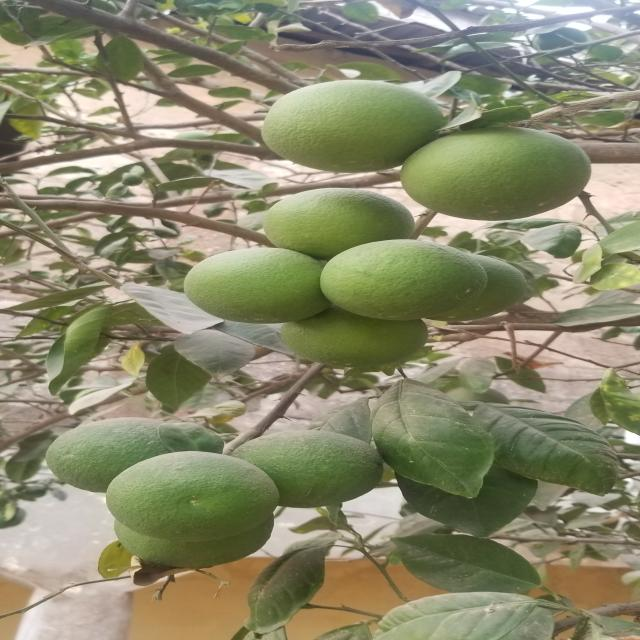Unripe: (398, 127, 598, 219), (271, 83, 444, 176), (108, 449, 278, 540), (252, 189, 444, 259), (235, 430, 392, 511), (183, 244, 326, 332), (330, 235, 460, 321), (49, 418, 180, 492), (294, 318, 428, 372), (124, 529, 245, 576), (477, 245, 529, 322), (180, 410, 225, 460)
